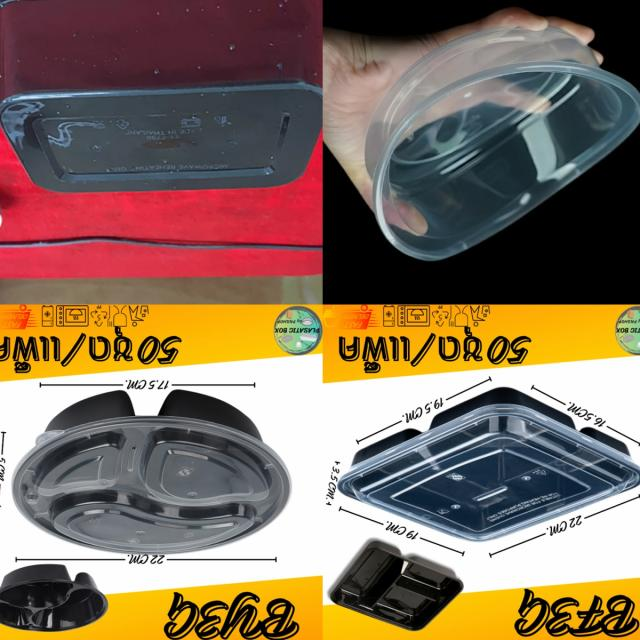plastik: (365, 29, 640, 261), (0, 0, 323, 193), (339, 387, 640, 541), (12, 391, 291, 554), (331, 542, 463, 631), (0, 565, 108, 631)
